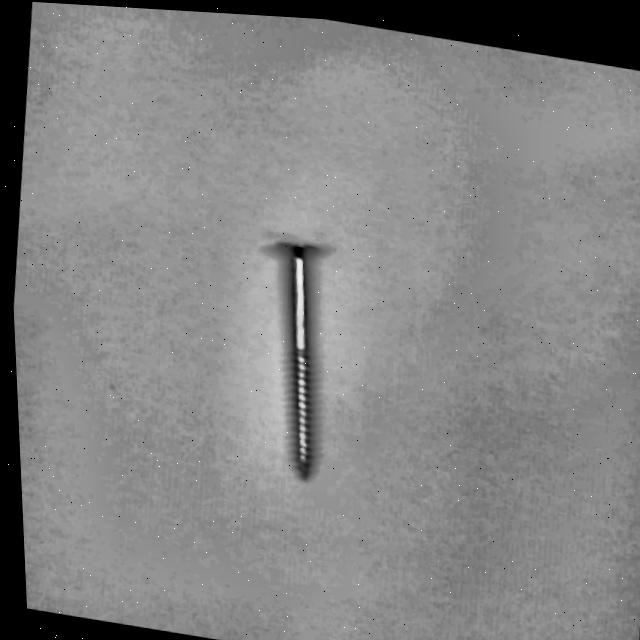Wood screw: (241, 229, 333, 478)
